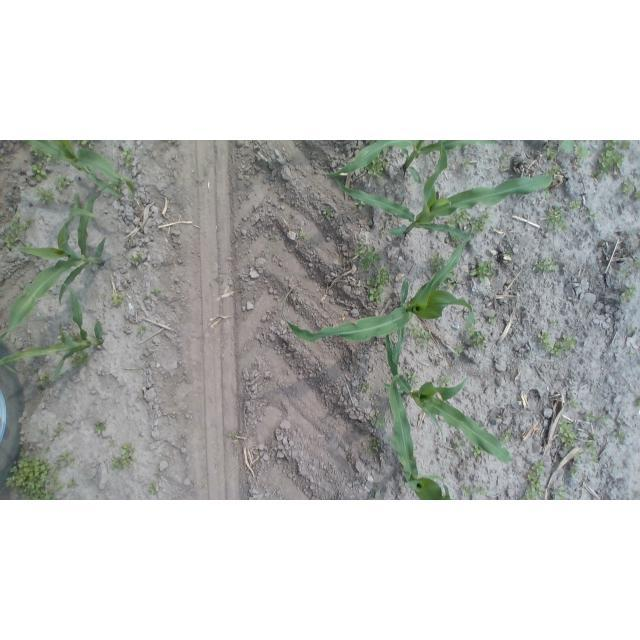Maize: (282, 227, 475, 357), (333, 140, 554, 240), (383, 331, 513, 463), (1, 184, 107, 340), (1, 283, 104, 383), (383, 373, 453, 500), (318, 141, 501, 184), (21, 140, 137, 198)
Weeds: (3, 450, 64, 500), (596, 141, 628, 177), (5, 213, 36, 248), (523, 460, 547, 500), (367, 268, 390, 305), (361, 151, 388, 179), (110, 442, 136, 470), (545, 204, 568, 232), (557, 419, 577, 451), (355, 246, 380, 270), (551, 334, 578, 356), (469, 259, 493, 282), (409, 326, 431, 348), (445, 208, 468, 229), (619, 177, 640, 200), (471, 210, 490, 234), (586, 433, 600, 464), (532, 259, 558, 273), (466, 328, 484, 347), (36, 188, 56, 205), (536, 331, 552, 352), (460, 485, 488, 497), (367, 436, 382, 458), (431, 251, 447, 271), (442, 273, 462, 288), (576, 140, 591, 160), (32, 161, 47, 181), (371, 408, 385, 429), (31, 148, 53, 161), (70, 352, 89, 367), (56, 174, 72, 191), (406, 369, 421, 387), (121, 148, 135, 167), (58, 451, 74, 467), (37, 373, 53, 388), (92, 420, 106, 437), (621, 285, 635, 301), (50, 423, 62, 441), (109, 293, 123, 308), (545, 165, 564, 176), (550, 487, 566, 500), (451, 441, 465, 455), (613, 428, 626, 443), (501, 428, 514, 443), (130, 252, 144, 265), (545, 147, 558, 161), (322, 206, 335, 220), (471, 445, 486, 457), (560, 141, 576, 152), (586, 208, 598, 222), (570, 198, 583, 210), (584, 410, 597, 422), (360, 382, 373, 393), (441, 374, 452, 387), (568, 399, 581, 410), (77, 140, 94, 148), (461, 158, 473, 169), (574, 451, 584, 464), (598, 414, 609, 425), (354, 200, 366, 210), (148, 482, 158, 494), (226, 430, 239, 439), (138, 325, 149, 335), (569, 465, 579, 476), (503, 249, 513, 260), (618, 267, 627, 279), (619, 141, 631, 150), (452, 234, 461, 246), (150, 287, 162, 296), (487, 314, 497, 324), (454, 345, 463, 356), (70, 333, 81, 342), (500, 153, 509, 164), (630, 262, 640, 271), (626, 326, 636, 335), (67, 480, 78, 488), (548, 319, 558, 327), (292, 200, 301, 208), (141, 294, 149, 303), (299, 229, 306, 239), (100, 292, 106, 301), (546, 189, 551, 199), (635, 398, 640, 407), (41, 428, 47, 434), (480, 426, 484, 430)
